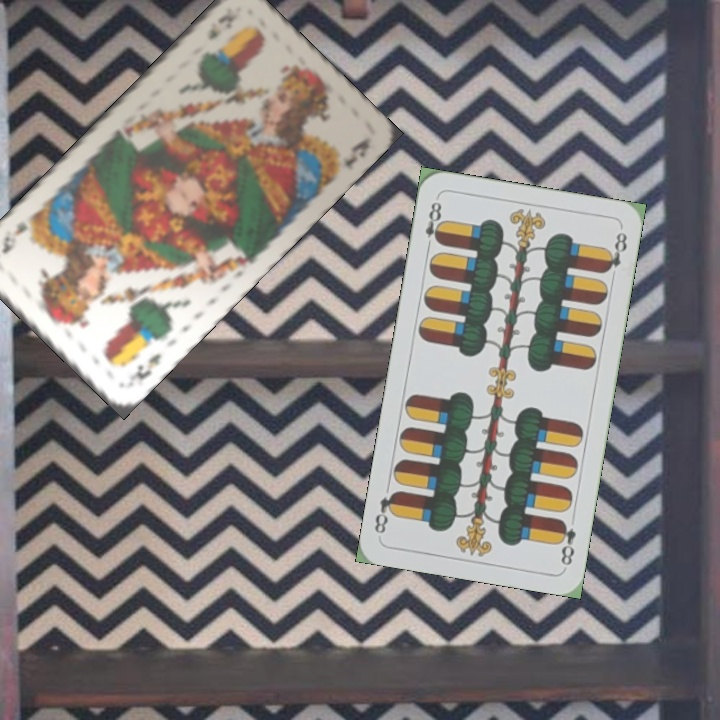E8: (421, 197, 447, 253), (554, 515, 579, 568)
EK: (204, 9, 239, 43), (131, 349, 164, 383)
